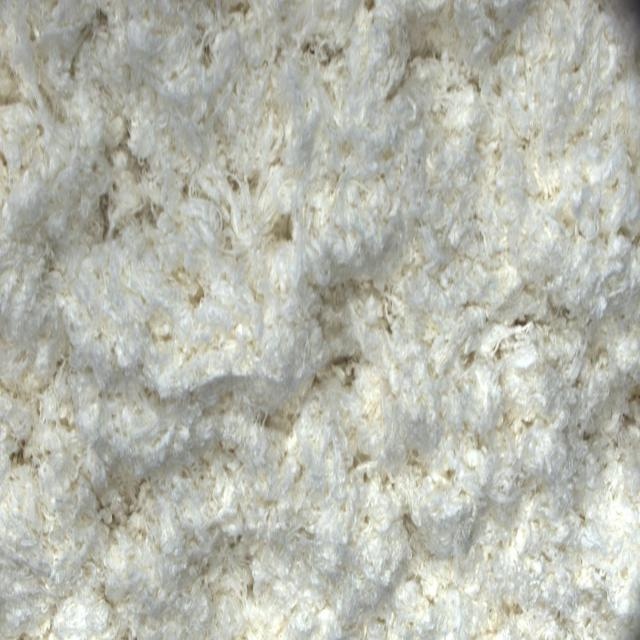dust: (95, 193, 116, 247)
